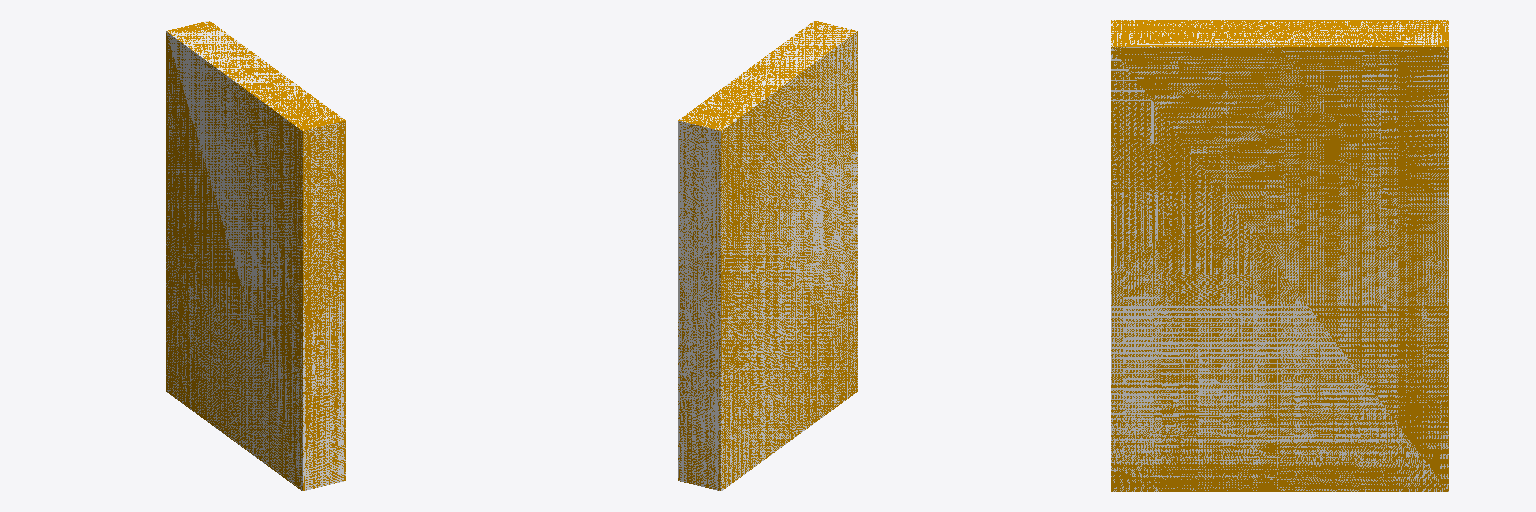
robot.urdf — my_object:
<?xml version="1.0" ?> 
<robot name="my_object" static="true">
  <link name="base_link">
  <inertial>
    <mass value="0.8" />
    <origin xyz="0 0 0.0" />
    <inertia ixx="1.0" ixy="0.0" ixz="0.0" iyy="1.0" iyz="0.0" izz="1.0"/>
  </inertial>
  <visual>
   <origin xyz="0 0 0.0" rpy="0 0 0" />
   <geometry>
     <mesh filename="package://cob_gazebo_objects/Media/models/book_emancipation.dae"/>
   </geometry>
  </visual>
  <collision>
   <origin xyz="0 0 0" rpy="0 0 0" />
   <geometry>
     <box size="0.03 0.165 0.24" />
   </geometry>
  </collision>     
  </link>

<gazebo>
	<static>true</static>
</gazebo>
</robot>

--- What the picture shows (computed from the rendered views, not written in the file) ---
3 views of the same robot in one strip: view 1: azimuth 30°, elevation 25°; view 2: azimuth 150°, elevation 25°; view 3: azimuth 270°, elevation 25° (orthographic).
Model my_object with 1 links and 0 joints (none), rooted at base_link, posed all joints at 0.
Visible links, largest first — view 1: base_link; view 2: base_link; view 3: base_link.
Link boxes in pixels (x1,y1,x2,y2): base_link: (166, 21, 345, 490); base_link: (678, 21, 857, 490); base_link: (1111, 20, 1448, 491).
Size in the robot's own frame: 0.0303 by 0.1645 by 0.2396 metres.
1 mesh visuals loaded from 1 distinct referenced files (1 Collada DAE).